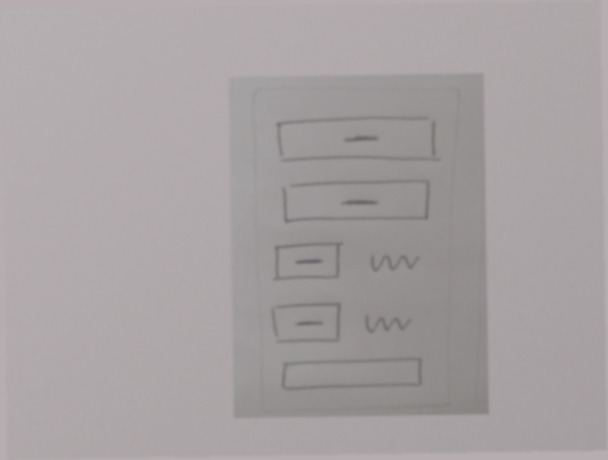button: (271, 112, 443, 170), (277, 177, 434, 229), (268, 299, 346, 348), (270, 239, 348, 285)
text: (360, 307, 414, 340), (364, 248, 421, 277)
text_input: (276, 355, 428, 395)
